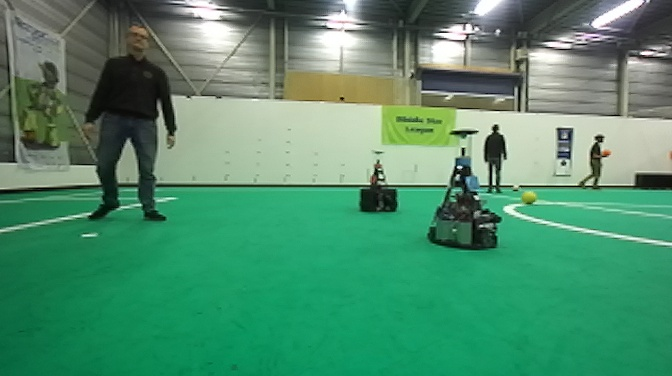ball: (521, 187, 537, 206), (510, 182, 521, 192), (603, 148, 613, 159)
human: (79, 1, 180, 224), (480, 122, 509, 194), (576, 132, 605, 190)
robot: (425, 129, 503, 253), (358, 150, 399, 214)
